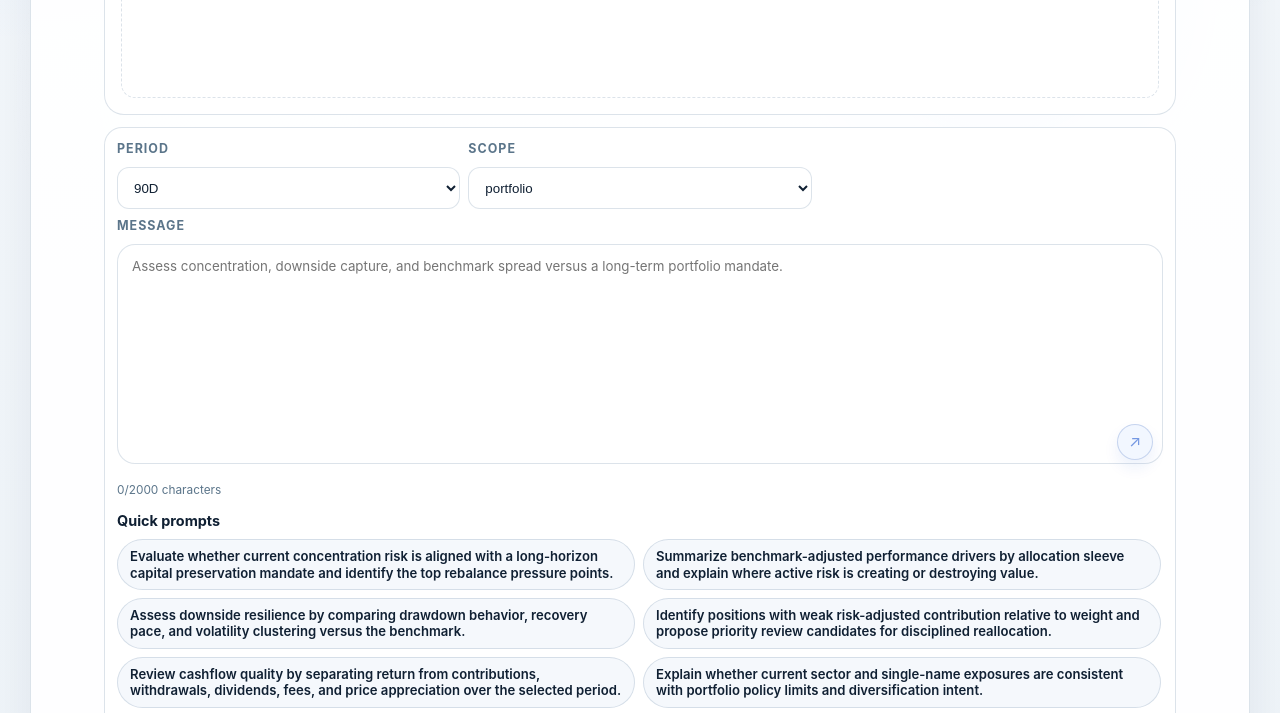
Scenario: PortfolioCopilotPage › renders error banner when request throws one API error
(page scrolled)
Type "Summarize current risk context." into the text box named "Copilot user message" at (640, 354), box [117,244,1163,464]
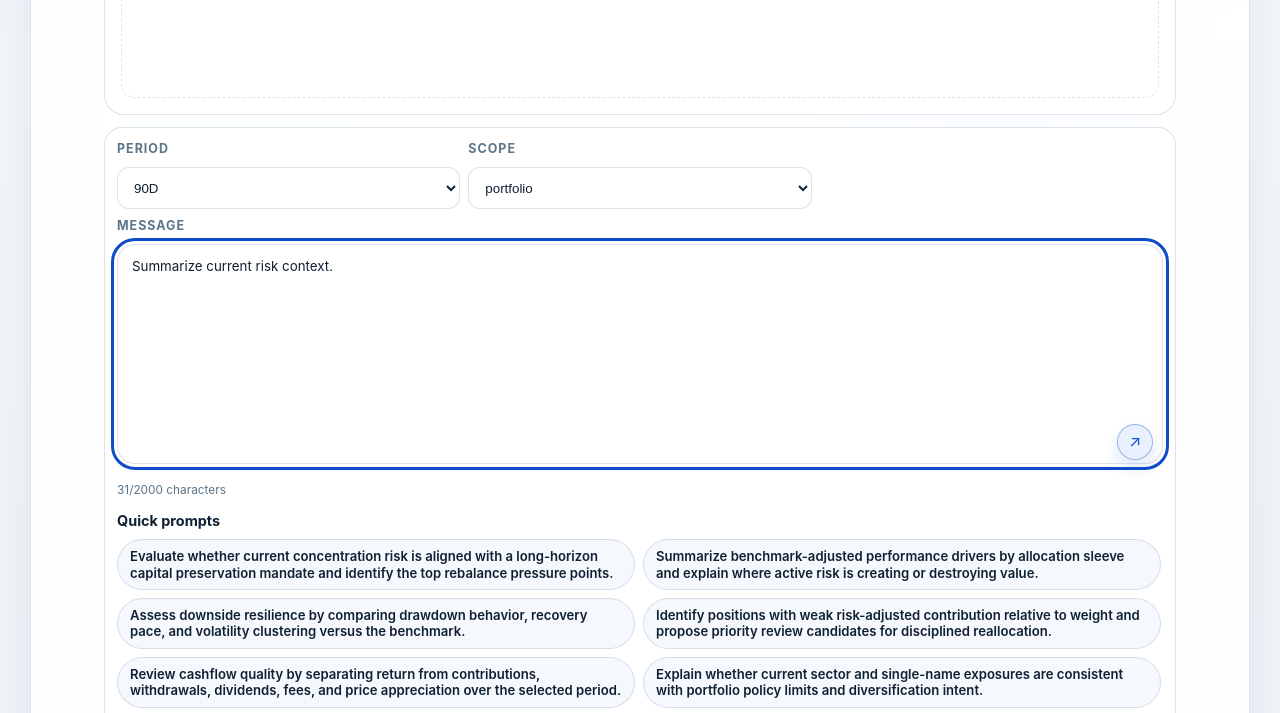
Click the button named "Submit request" at (1135, 442), box [1117,424,1153,460]
(page scrolled)
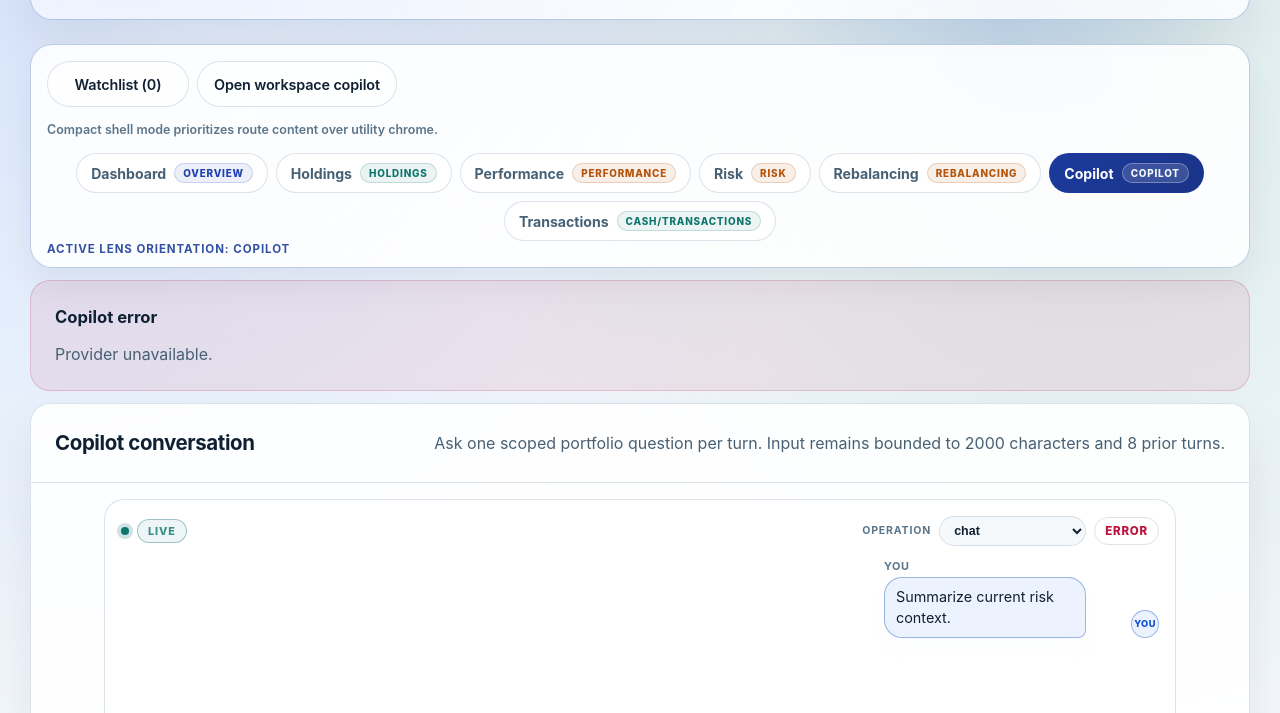
Check: the heading "Copilot error" is shown, box [55,307,157,327]
Check: the text "Provider unavailable." is shown, box [55,344,213,364]
